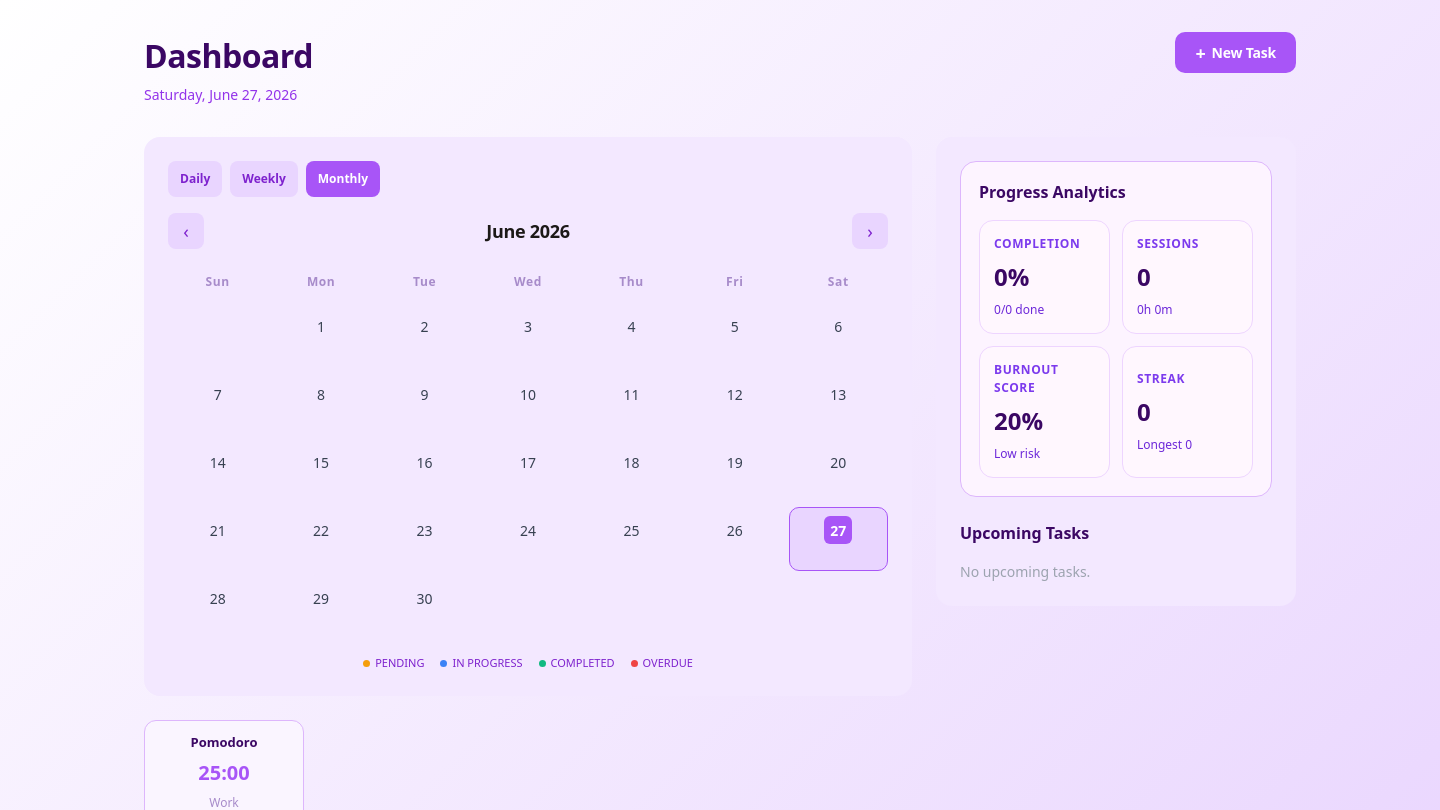
Test: DashboardCalendar › changes calendar views when toggled
Click the button "Weekly" at x=264, y=179, box [230,161,298,197]
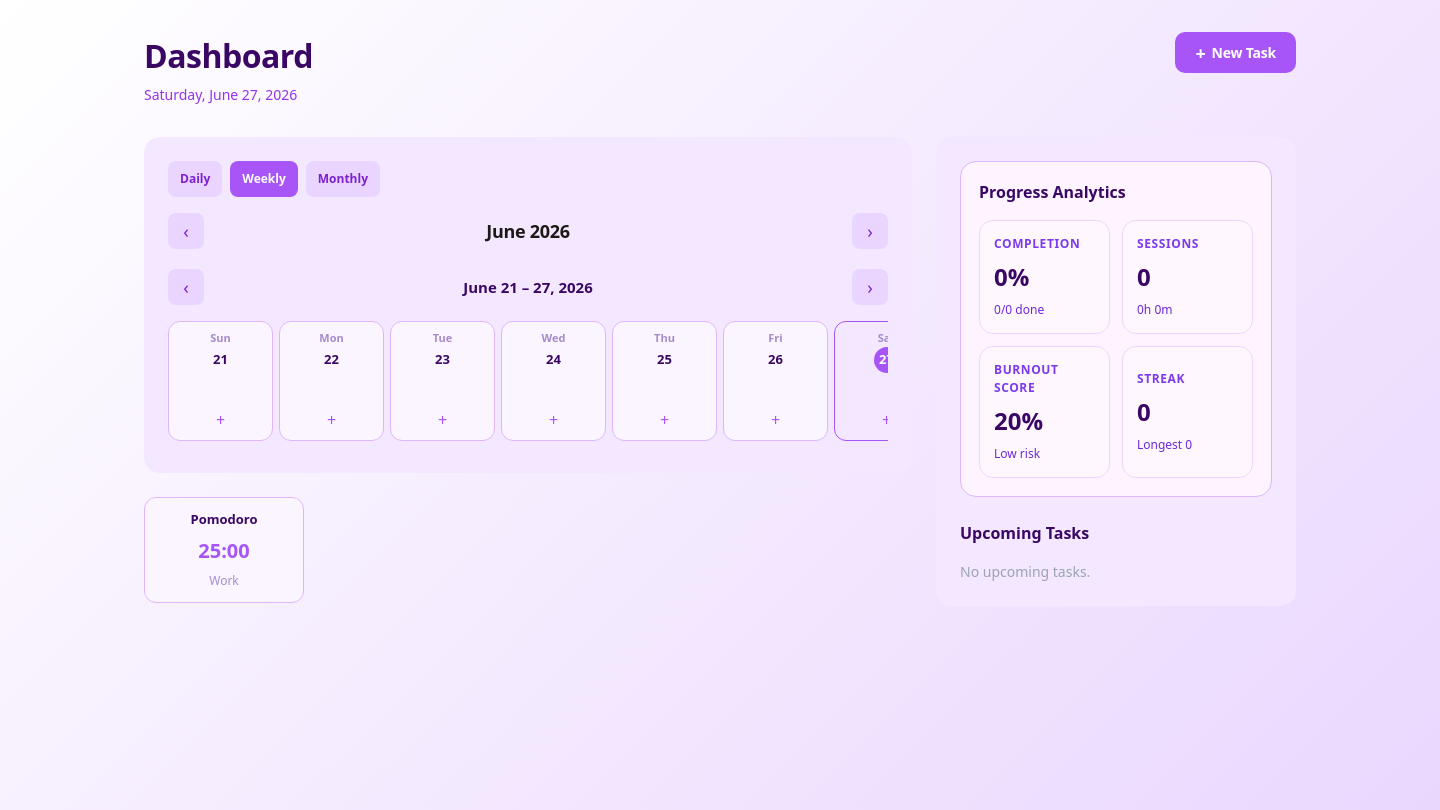
Expected: the text "Sun" is shown, [210,330,231,345]
Click the button "Daily" at x=195, y=179, box [168,161,222,197]
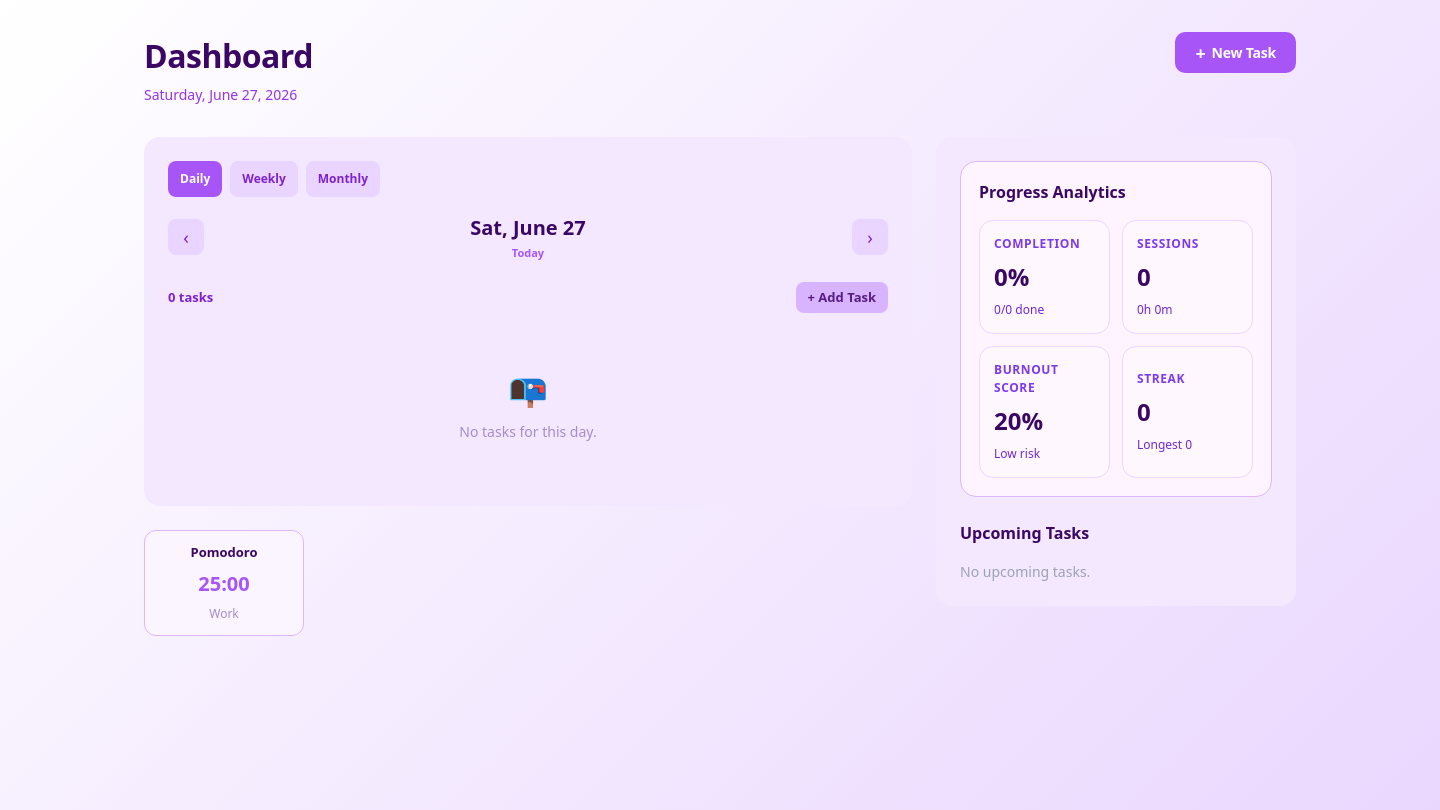
Expected: the text "Today" is shown, [512,245,544,260]
